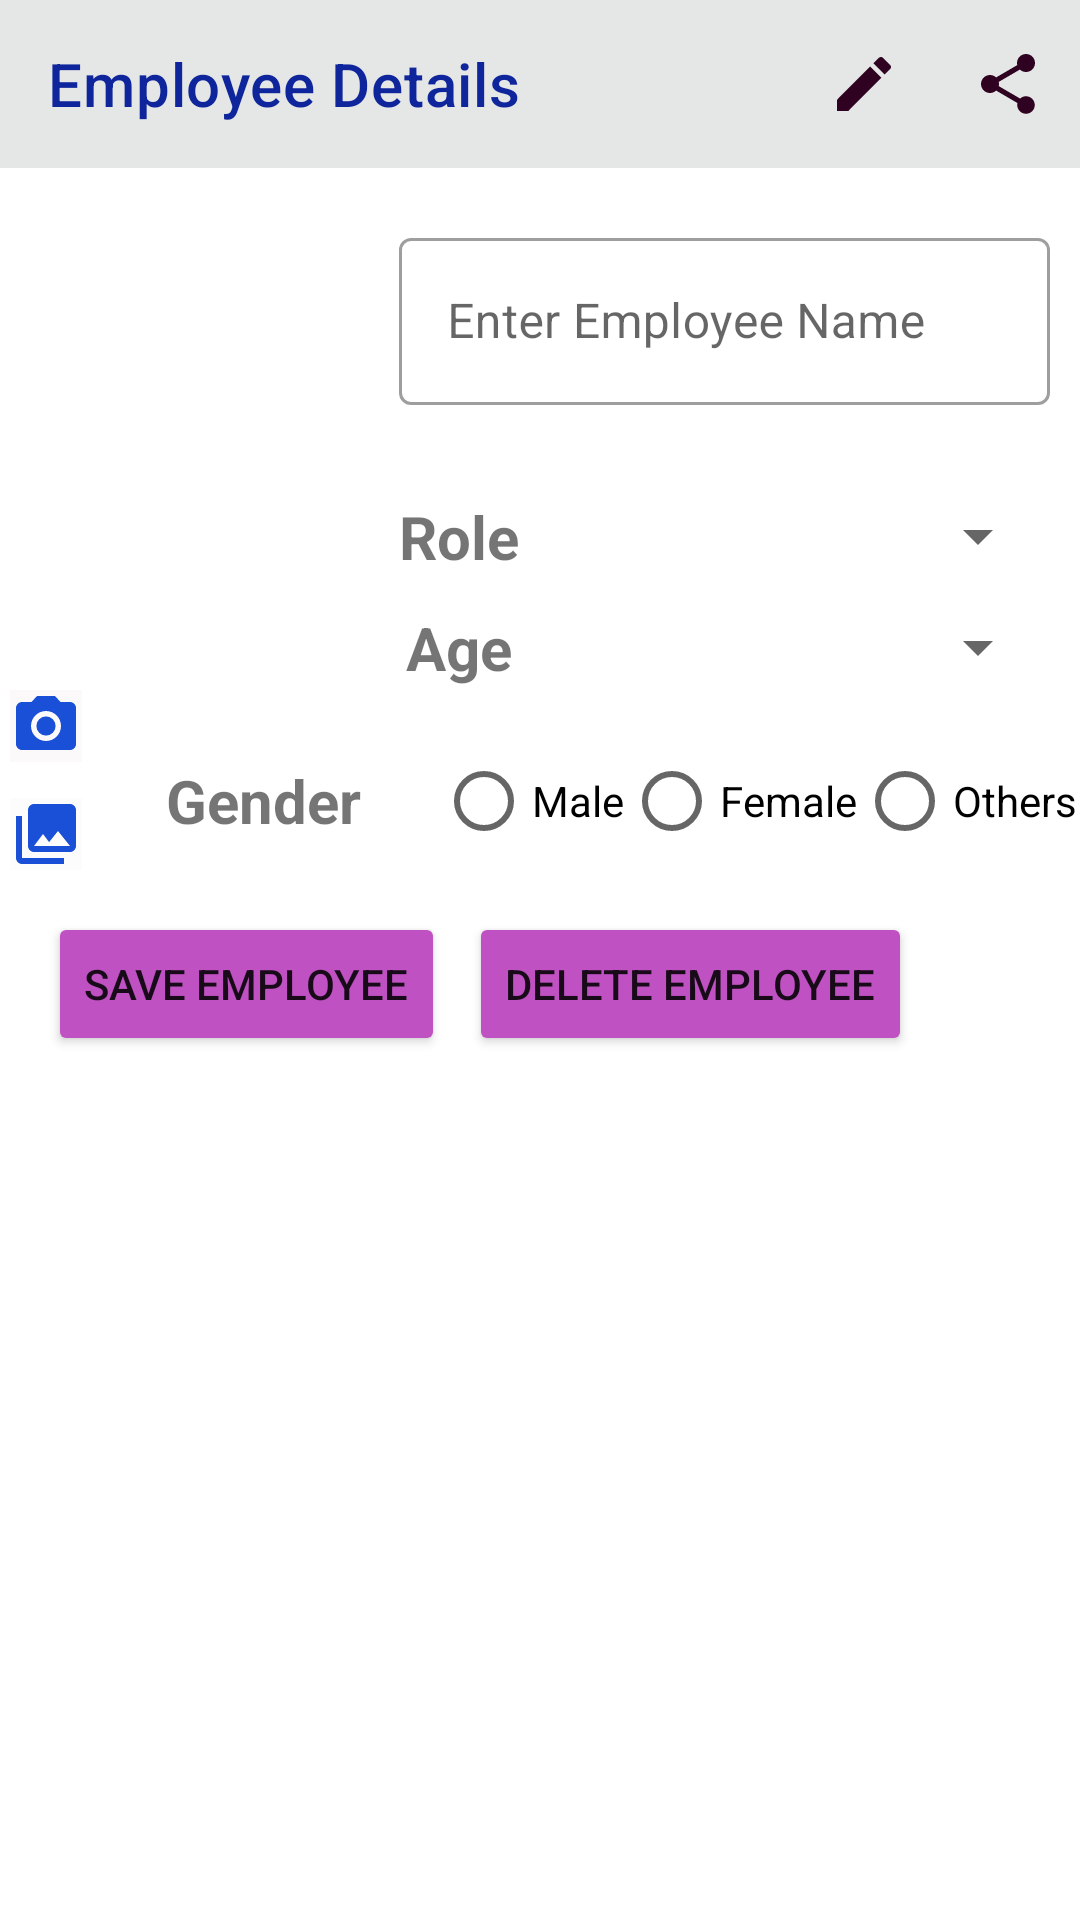

Icon click points for this 1080x1920 phone screenshot, format [x,y]:
camera: [46,723]
collections: [46,834]
